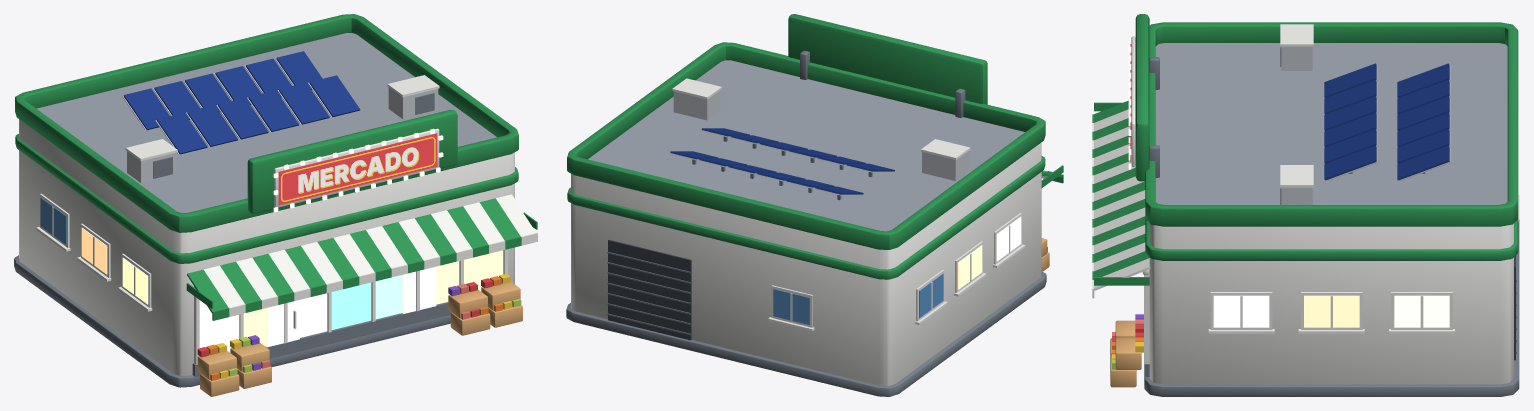
The model's file is mercadinho.glb.
The picture shows the model from 3 angles, left to right: view 1: azimuth 30°, elevation 25°; view 2: azimuth 150°, elevation 25°; view 3: azimuth 270°, elevation 25°; orthographic projection. The views are drawn at different scales.
Visible parts, largest first — view 1: mercadinho; view 2: mercadinho; view 3: mercadinho.
Part boxes in pixels (<box>): mercadinho: <box>14,14,537,396</box>; mercadinho: <box>566,14,1063,396</box>; mercadinho: <box>1092,14,1519,396</box>.
Bounding box in the file's own units: 12.82 × 7.5 × 12.31.
Materials: 9 (2 with a texture image).
